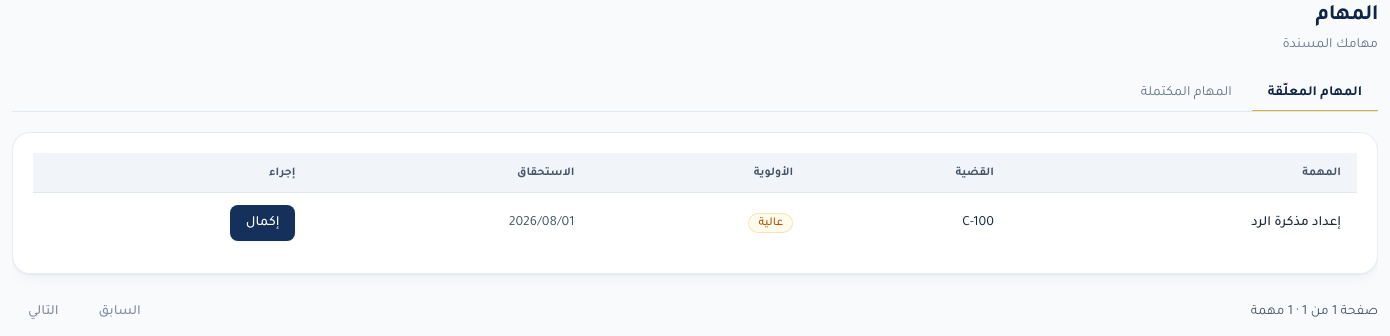
Scenario: TasksPage › يتنقّل إلى تبويب المكتملة (status=done)
Expected: the text "إعداد مذكرة الرد" is shown, [1010,193,1357,253]
Click the tab "المهام المكتملة": coordinates (1186, 93) [1125,75,1248,111]
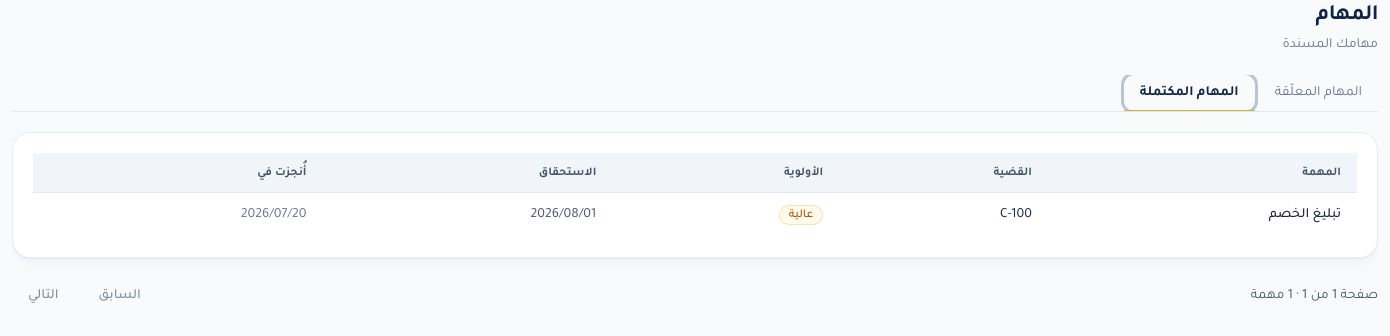
Now the text "تبليغ الخصم" is shown, box [1048,193,1357,237]
